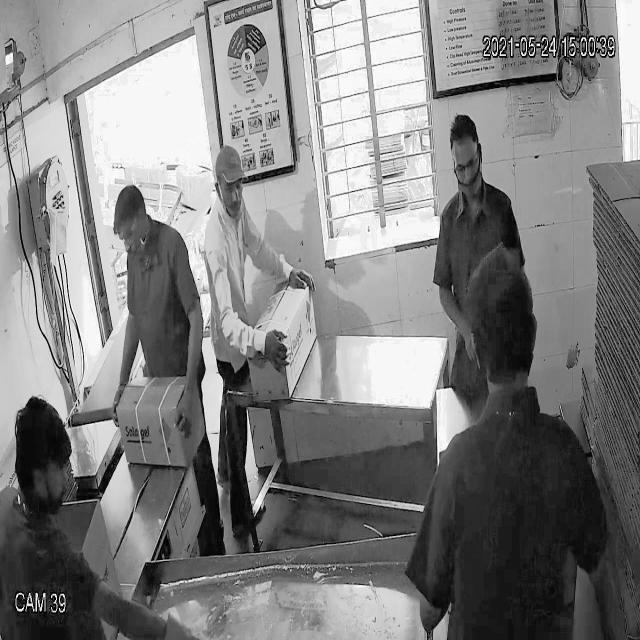glasses: (450, 149, 484, 184)
no-glass: (213, 176, 247, 204)
